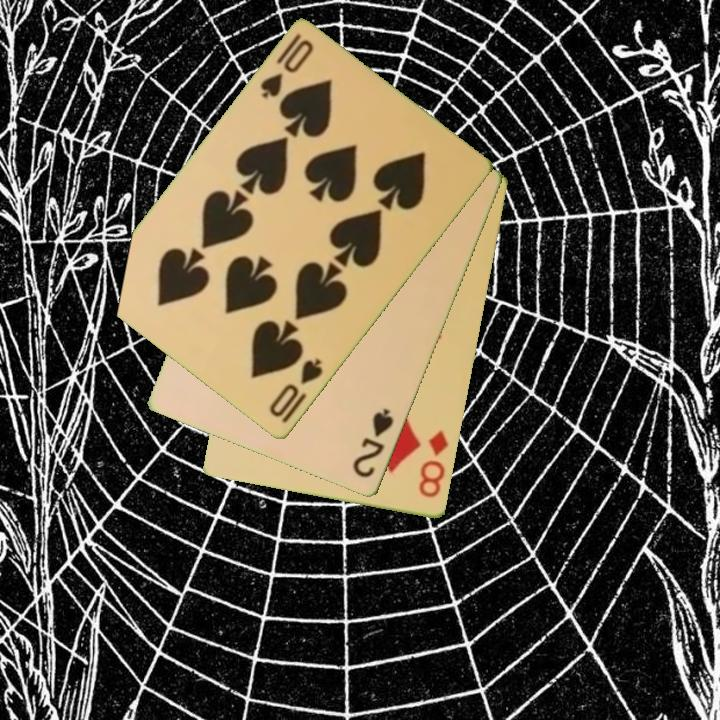10s: (256, 30, 317, 102), (265, 355, 326, 421)
2s: (349, 405, 397, 481)
8d: (415, 427, 452, 501)
